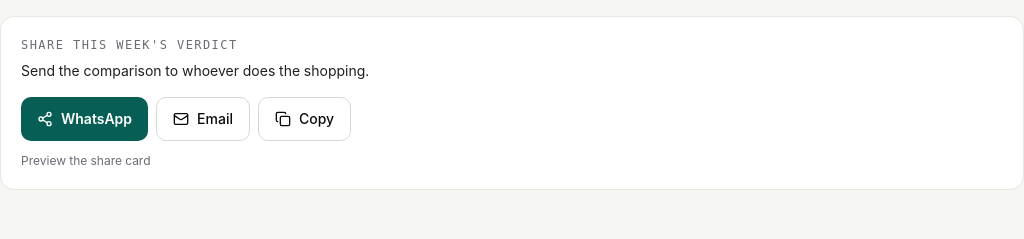
Test case: ShareVerdictButton — share and clipboard outcomes › tells the user when the clipboard write is rejected, with no unhandled rejection
Click the button "Copy".
click(305, 119)  # box 258,97 -> 351,141
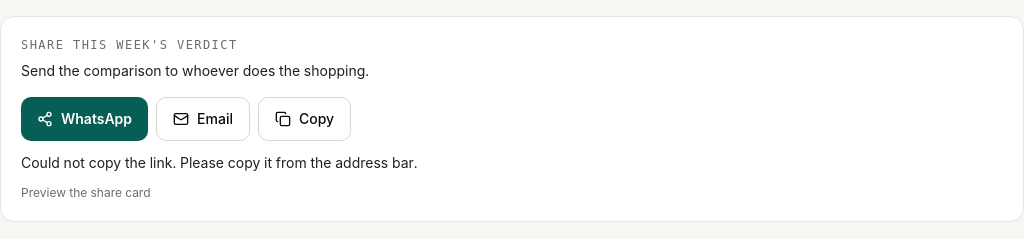
Expected: the message reads "Could not copy the link. Please copy it from the address bar.", 21,154 -> 418,171
